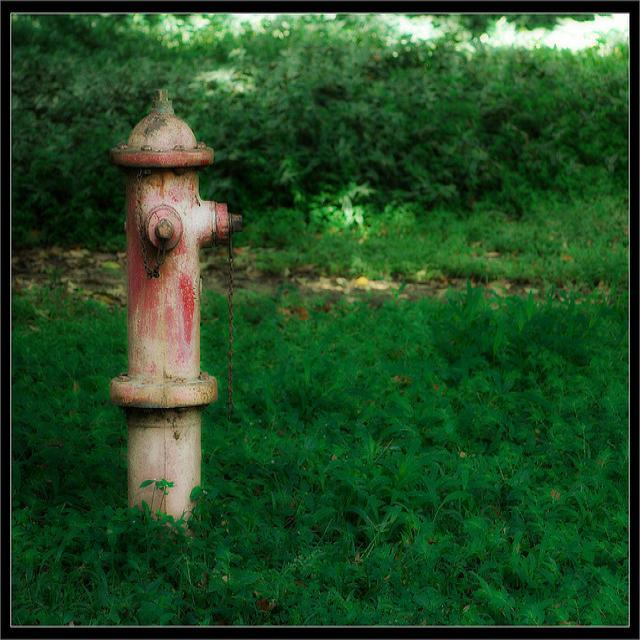fire_hydrant: (107, 88, 242, 530)
